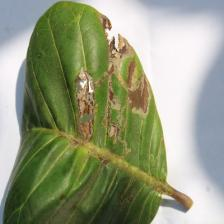leaf miner: (1, 0, 193, 224)
